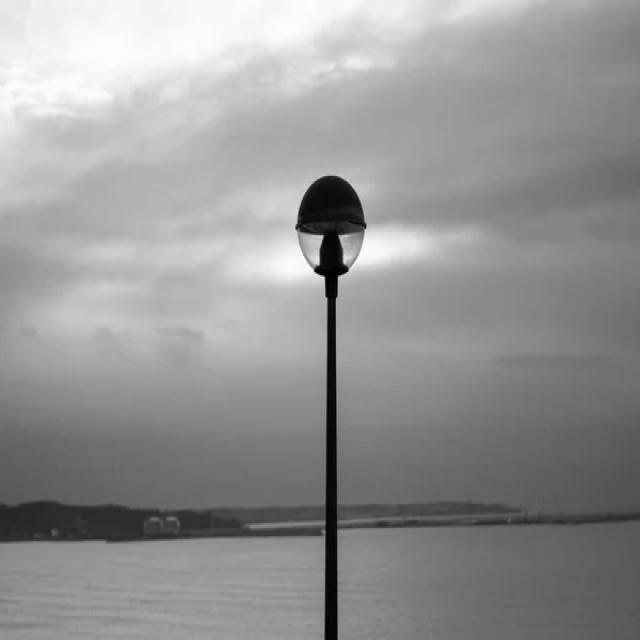Pole: (296, 174, 367, 640)
